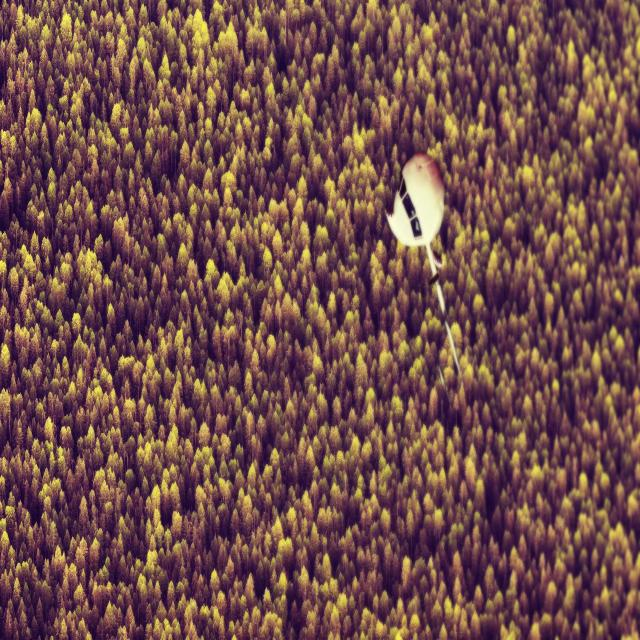airplane: (384, 151, 462, 377)
